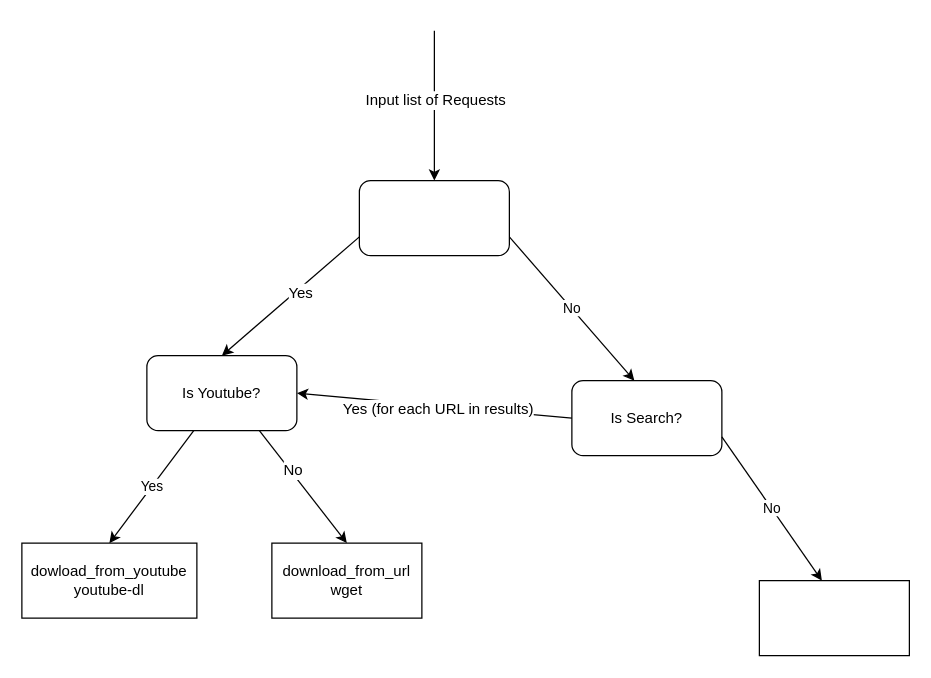
The diagram is 931 pixels wide and 678 high, and some of its shapes have lost their labels. The box of each missing label's shape, as (x1, y1, x2, y2) in pixels:
Download from IPFS ipfs: (758, 579, 909, 656)
Is URL?: (358, 179, 509, 256)
